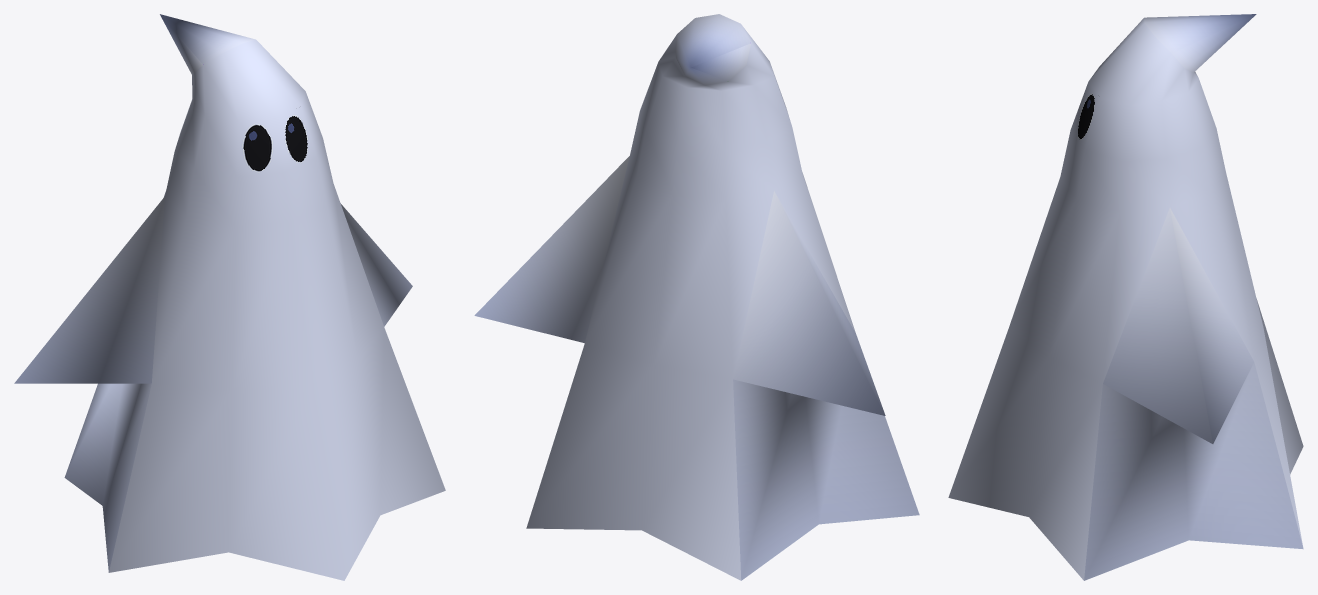
File: 3d-esteve-alba-fantasma.glb
3 renders of one model, left to right at view 1: azimuth 30°, elevation 25°; view 2: azimuth 150°, elevation 25°; view 3: azimuth 270°, elevation 25°, orthographic. The views are drawn at different scales.
Visible parts, largest first — view 1: fantasma; view 2: fantasma; view 3: fantasma.
Part boxes in pixels (x1=…): fantasma: x1=14, y1=14, x2=445, y2=580; fantasma: x1=474, y1=14, x2=919, y2=580; fantasma: x1=948, y1=14, x2=1303, y2=580.
Bounding box in the file's own units: 1.64 × 1.84 × 1.25.
1 material, 1 textured.
